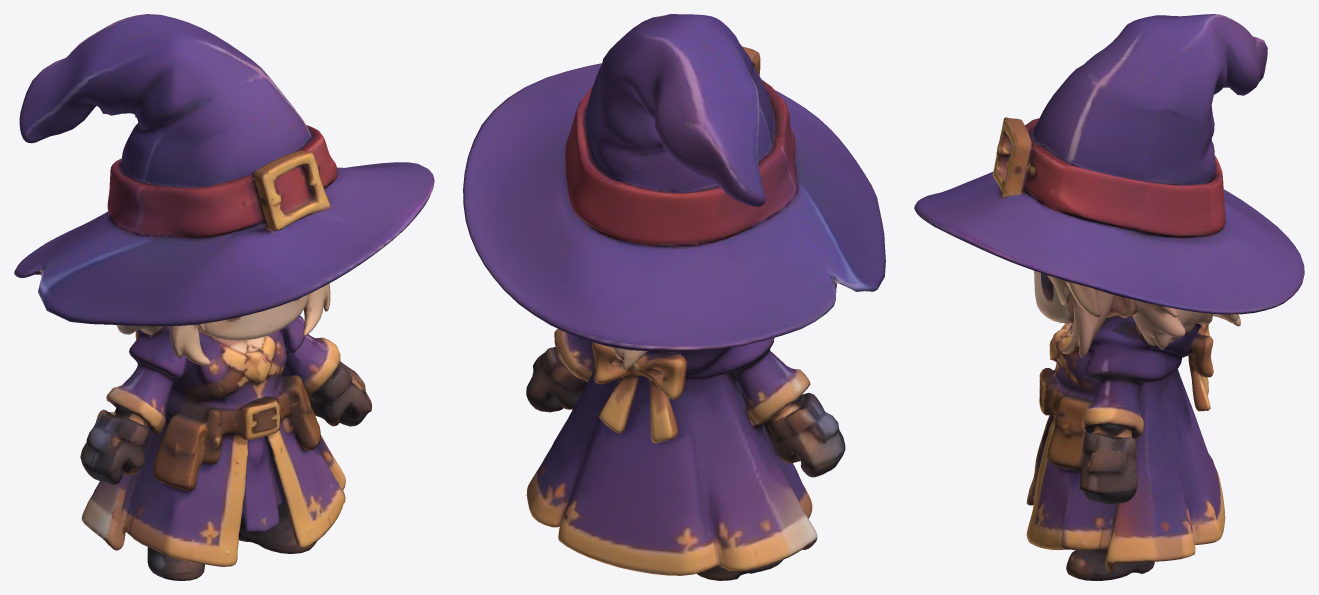
File: black_mage.glb
3 views of the same model, side by side, from view 1: azimuth 30°, elevation 25°; view 2: azimuth 150°, elevation 25°; view 3: azimuth 270°, elevation 25° (orthographic). The views are drawn at different scales.
Visible parts, largest first — view 1: tripo_node_8221a912-9148-4e4d-8fab-1bd26d9e8824; view 2: tripo_node_8221a912-9148-4e4d-8fab-1bd26d9e8824; view 3: tripo_node_8221a912-9148-4e4d-8fab-1bd26d9e8824.
Boxes of the visible parts, x1=… form: tripo_node_8221a912-9148-4e4d-8fab-1bd26d9e8824: x1=14, y1=14, x2=434, y2=580; tripo_node_8221a912-9148-4e4d-8fab-1bd26d9e8824: x1=463, y1=14, x2=885, y2=580; tripo_node_8221a912-9148-4e4d-8fab-1bd26d9e8824: x1=914, y1=14, x2=1304, y2=580.
Size of the model in its own units: 0.7265 by 0.9787 by 0.6775.
1 material, 1 textured.
